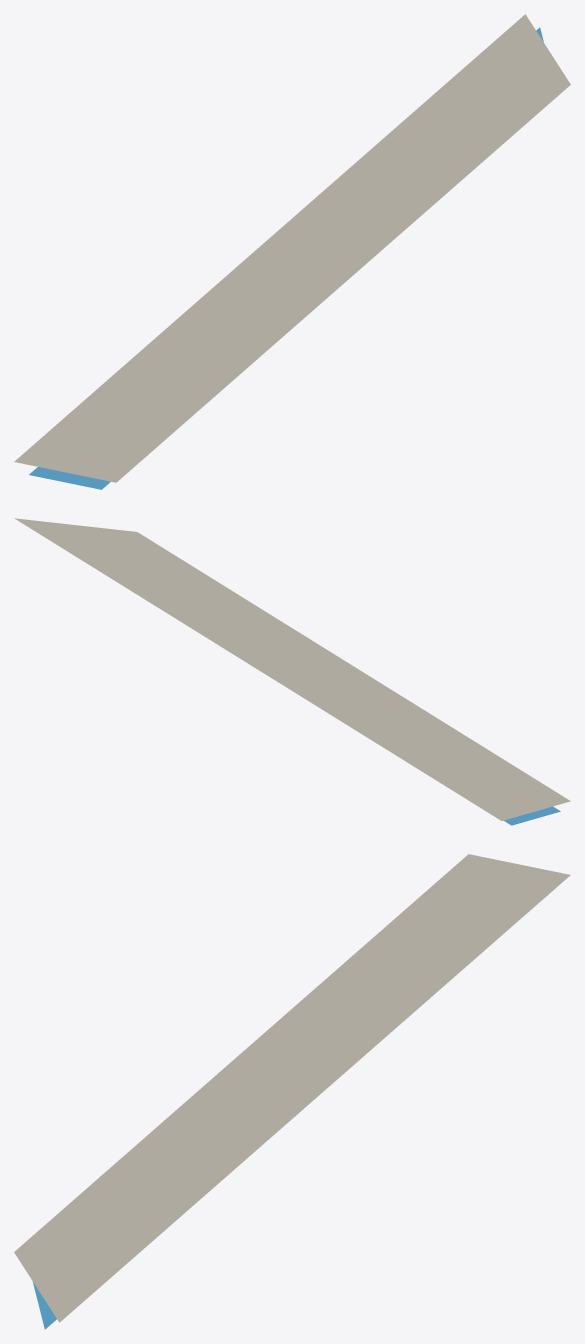
3 views of the same model, one above another, from view 1: azimuth 90°, elevation 25°; view 2: azimuth 150°, elevation 25°; view 3: azimuth 270°, elevation 25° (orthographic). The views are drawn at different scales.
Visible parts, largest first — view 1: estructura_terreno, estructura_agua; view 2: estructura_terreno, estructura_agua; view 3: estructura_terreno.
Part boxes in pixels (bbox=[...]): estructura_terreno: bbox=[14, 14, 570, 482]; estructura_agua: bbox=[29, 27, 543, 489]; estructura_terreno: bbox=[14, 518, 570, 820]; estructura_agua: bbox=[504, 806, 560, 825]; estructura_terreno: bbox=[14, 854, 570, 1322].
Bounding box in the file's own units: 40.98 × 0.41 × 20.58.
